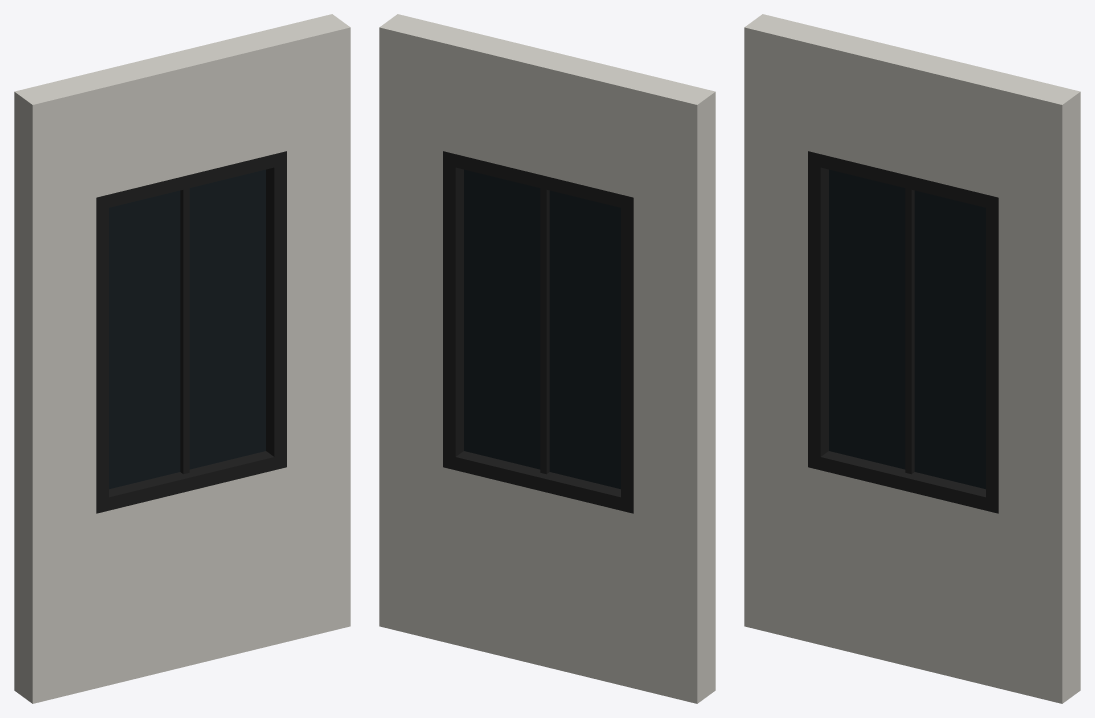
File: OA_Facade_WindowBay_2m.fbx
3 renders of one model, left to right at view 1: azimuth 30°, elevation 25°; view 2: azimuth 150°, elevation 25°; view 3: azimuth 330°, elevation 25°, orthographic.
Visible parts, largest first — view 1: OA_Facade_WindowBay_2m; view 2: OA_Facade_WindowBay_2m; view 3: OA_Facade_WindowBay_2m.
Boxes of the visible parts, x1=… form: OA_Facade_WindowBay_2m: x1=14, y1=14, x2=350, y2=703; OA_Facade_WindowBay_2m: x1=379, y1=14, x2=715, y2=703; OA_Facade_WindowBay_2m: x1=744, y1=14, x2=1080, y2=703.
Bounding box in the file's own units: 2 × 3.6 × 0.2.
3 materials, 3 textured.
